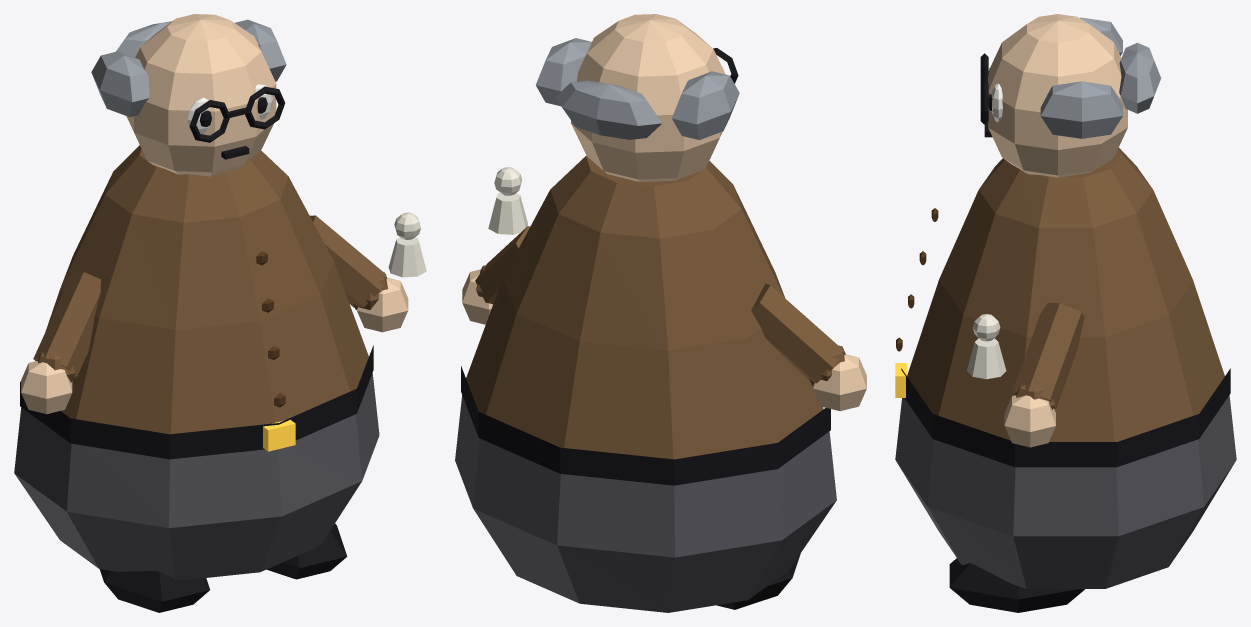
The model's file is npc_ajedrecista.glb.
3 views of the same model, side by side, from view 1: azimuth 30°, elevation 25°; view 2: azimuth 150°, elevation 25°; view 3: azimuth 270°, elevation 25° (orthographic). The views are drawn at different scales.
Visible parts, largest first — view 1: body_cardigan_brown, body_trousers_grey, head_skin_crema, body_black, arms_cardigan_brown, legs_black, head_hair_gray, arms_skin_crema, face_black, props_pawn_white, body_gold, face_white; view 2: body_cardigan_brown, body_trousers_grey, head_skin_crema, body_black, head_hair_gray, arms_cardigan_brown, arms_skin_crema, props_pawn_white, legs_black; view 3: body_cardigan_brown, body_trousers_grey, head_skin_crema, body_black, head_hair_gray, arms_cardigan_brown, legs_black, arms_skin_crema, props_pawn_white, face_black.
Boxes of the visible parts, bbox=[...] form: body_cardigan_brown: bbox=[45, 145, 368, 434]; body_trousers_grey: bbox=[14, 373, 379, 579]; head_skin_crema: bbox=[126, 14, 276, 176]; body_black: bbox=[20, 345, 373, 459]; arms_cardigan_brown: bbox=[33, 215, 387, 382]; legs_black: bbox=[99, 523, 347, 612]; head_hair_gray: bbox=[91, 19, 286, 117]; arms_skin_crema: bbox=[21, 278, 408, 414]; face_black: bbox=[189, 86, 285, 159]; props_pawn_white: bbox=[388, 212, 426, 277]; body_gold: bbox=[263, 419, 295, 451]; face_white: bbox=[187, 84, 273, 134]; body_cardigan_brown: bbox=[466, 155, 823, 459]; body_trousers_grey: bbox=[455, 395, 836, 612]; head_skin_crema: bbox=[571, 14, 725, 181]; body_black: bbox=[461, 366, 830, 485]; head_hair_gray: bbox=[536, 38, 739, 139]; arms_cardigan_brown: bbox=[475, 226, 845, 385]; arms_skin_crema: bbox=[462, 269, 866, 411]; props_pawn_white: bbox=[488, 167, 527, 234]; legs_black: bbox=[717, 553, 800, 609]; body_cardigan_brown: bbox=[907, 147, 1224, 441]; body_trousers_grey: bbox=[895, 395, 1236, 588]; head_skin_crema: bbox=[988, 14, 1127, 177]; body_black: bbox=[901, 368, 1230, 467]; head_hair_gray: bbox=[1040, 17, 1161, 138]; arms_cardigan_brown: bbox=[1012, 303, 1084, 409]; legs_black: bbox=[949, 558, 1084, 612]; arms_skin_crema: bbox=[1004, 395, 1055, 447]; props_pawn_white: bbox=[967, 314, 1006, 379]; face_black: bbox=[980, 53, 992, 137].
Bounding box in the file's own units: 1.13 × 1.53 × 0.86.
